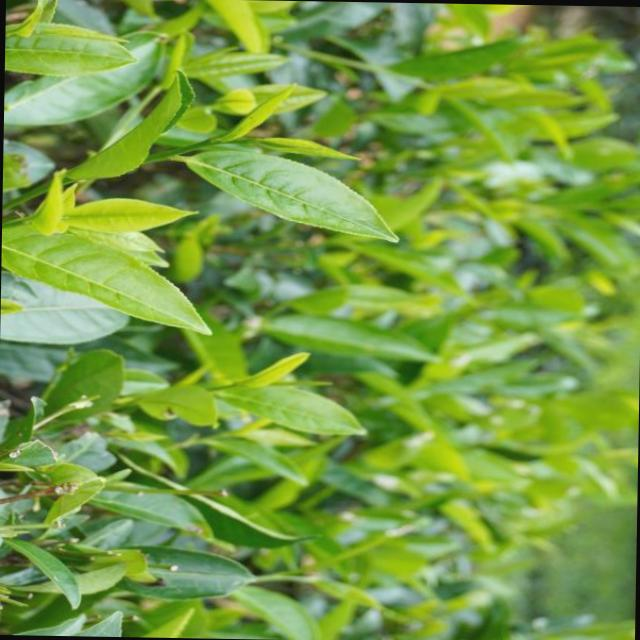Stem: (13, 218, 27, 224), (205, 138, 214, 143), (196, 438, 206, 442)
